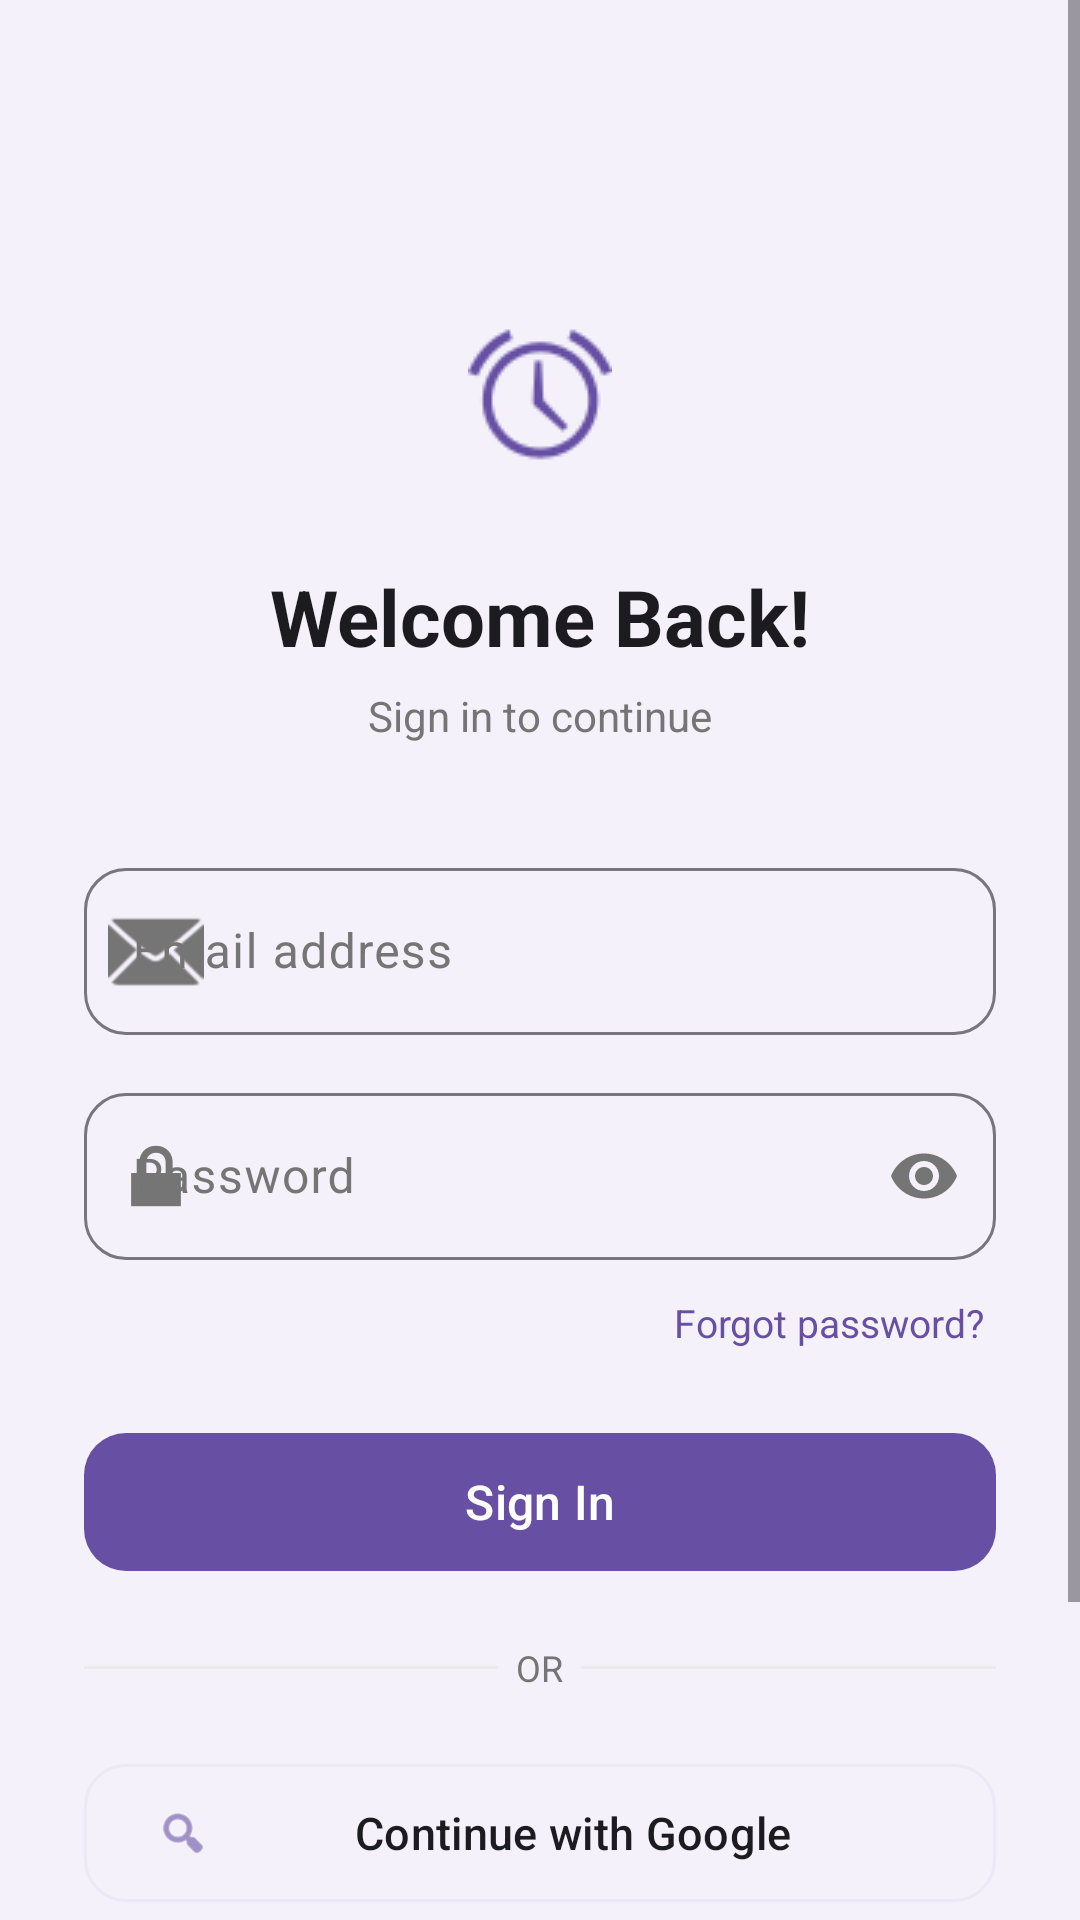

Icons on this 1080 × 1920 Android screen, each with its box as (x1, y1, x2, y2):
lock idle alarm: (468, 329, 612, 460)
